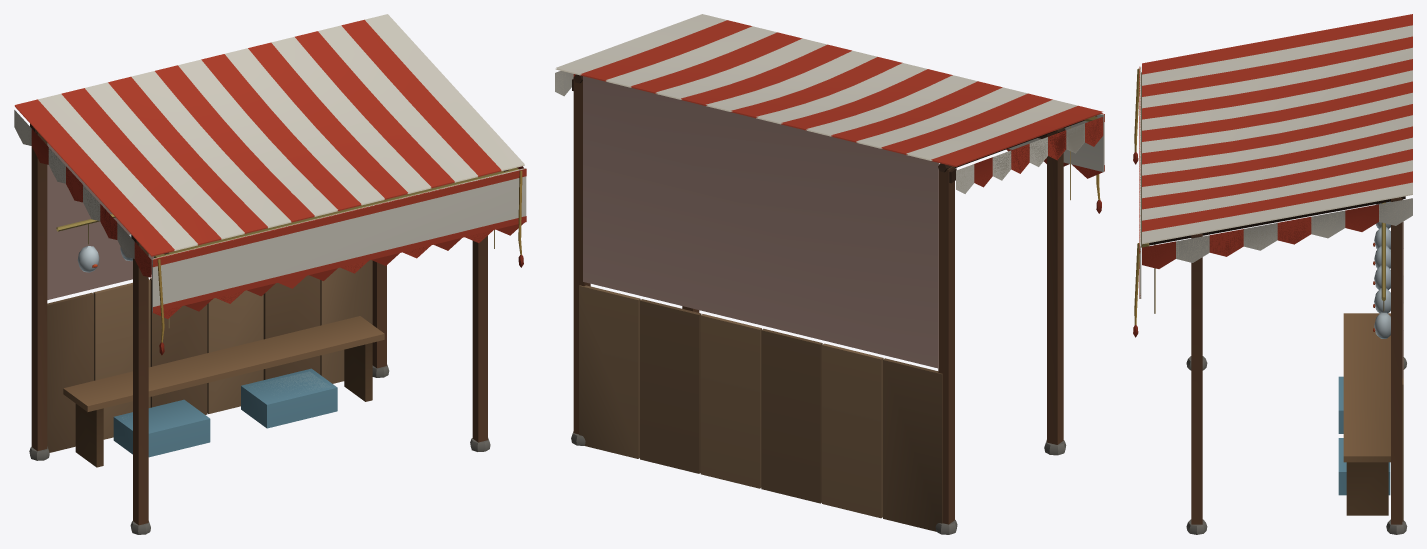
File: yatai_kingyo.glb
3 views of the same model, side by side, from view 1: azimuth 30°, elevation 25°; view 2: azimuth 150°, elevation 25°; view 3: azimuth 270°, elevation 25° (orthographic). The views are drawn at different scales.
Visible parts, largest first — view 1: booth; view 2: booth; view 3: booth.
Part boxes in pixels (x1,y1,x2,y2): booth: (14,14,526,534); booth: (555,14,1104,534); booth: (1133,14,1412,534).
Size of what is drawn, in the model's own units: 2.64 by 2.36 by 1.74.
